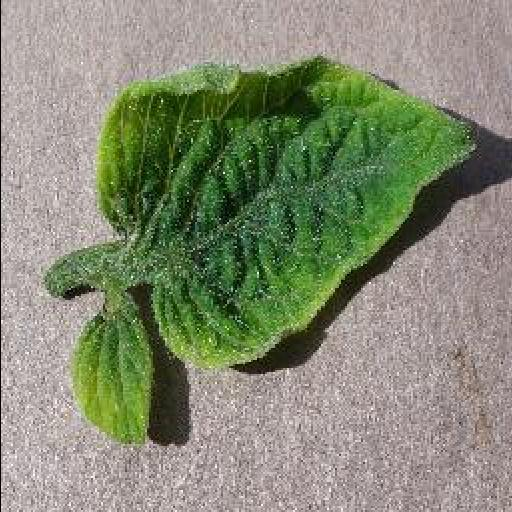disease_tomato: (94, 56, 482, 366), (72, 298, 158, 448)
